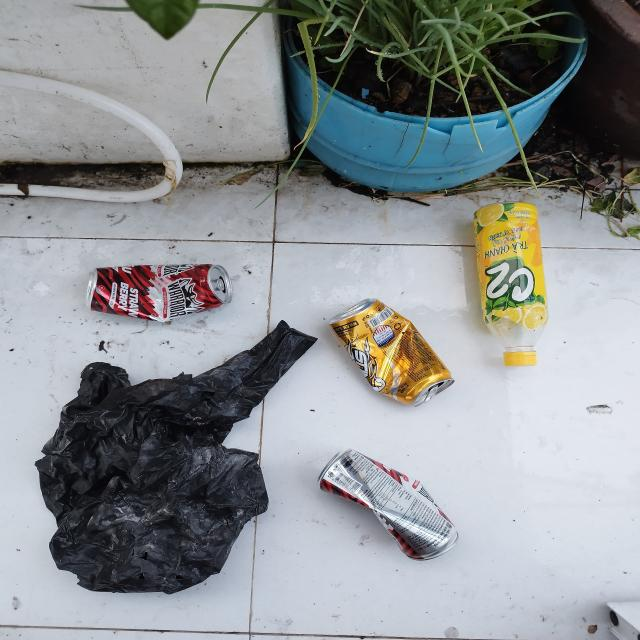bag: (35, 319, 319, 595)
bottle: (474, 200, 550, 368)
can: (317, 446, 459, 561), (327, 297, 456, 408), (84, 264, 233, 323)
